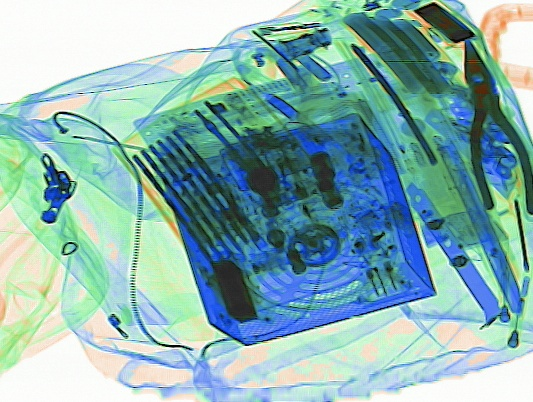powerbank: (340, 2, 458, 98)
